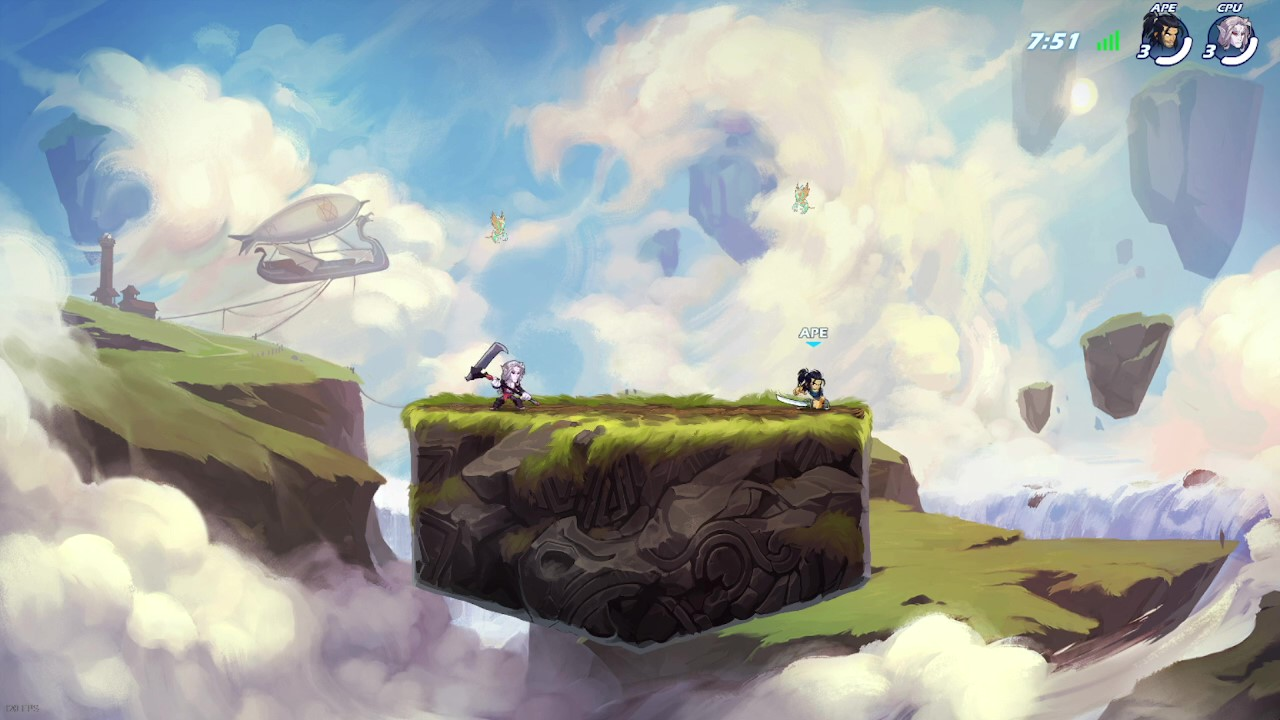koji: (793, 368, 830, 410)
koji_health_white: (1154, 15, 1193, 66)
koji_lives_3: (1136, 11, 1184, 59)
time_seconds_471: (1027, 32, 1082, 49)
volkov: (490, 360, 531, 410)
volkov_health_white: (1220, 16, 1259, 66)
volkov_lives_3: (1202, 15, 1256, 59)
